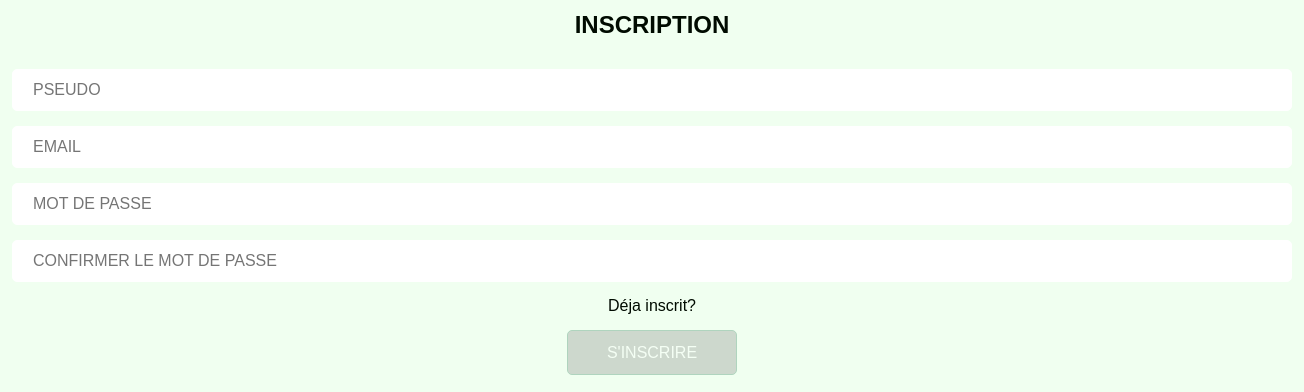
it: Test the Register component › should check that the register button is not disabled
The image size is (1304, 392).
Type "john" into the field with placeholder "PSEUDO" at (652, 90), box [12,69,1292,111]
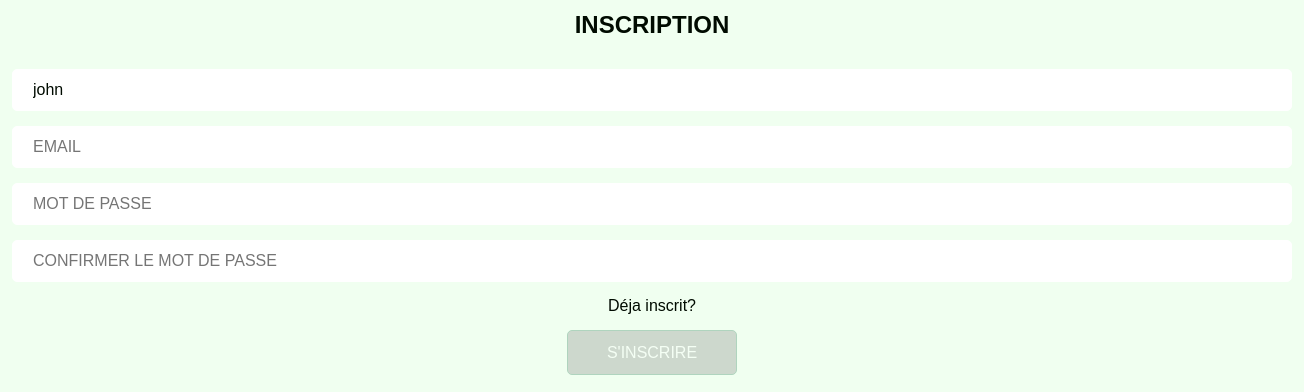
Type "john@gmail.com" into the field with placeholder "EMAIL" at (652, 147), box [12,126,1292,168]
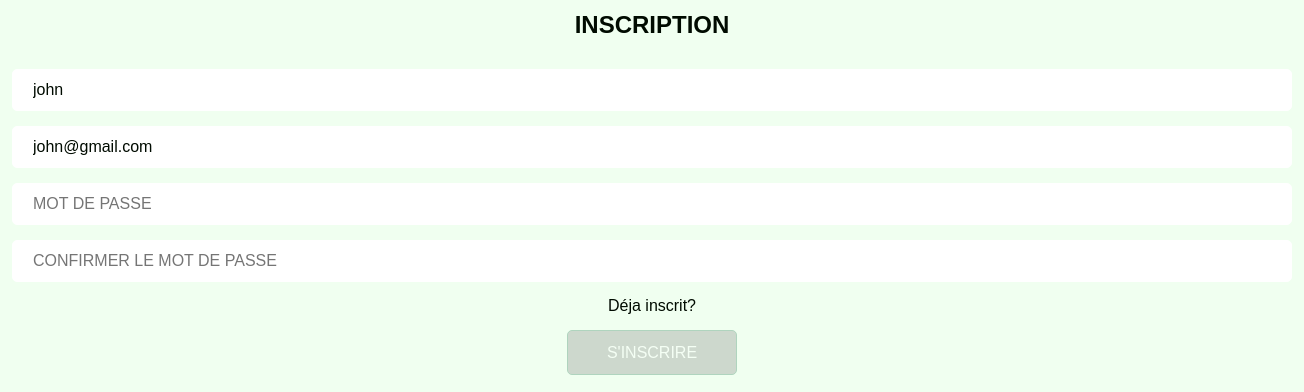
Type "johnPassword" into the password field with placeholder "MOT DE PASSE" at (652, 204), box [12,183,1292,225]
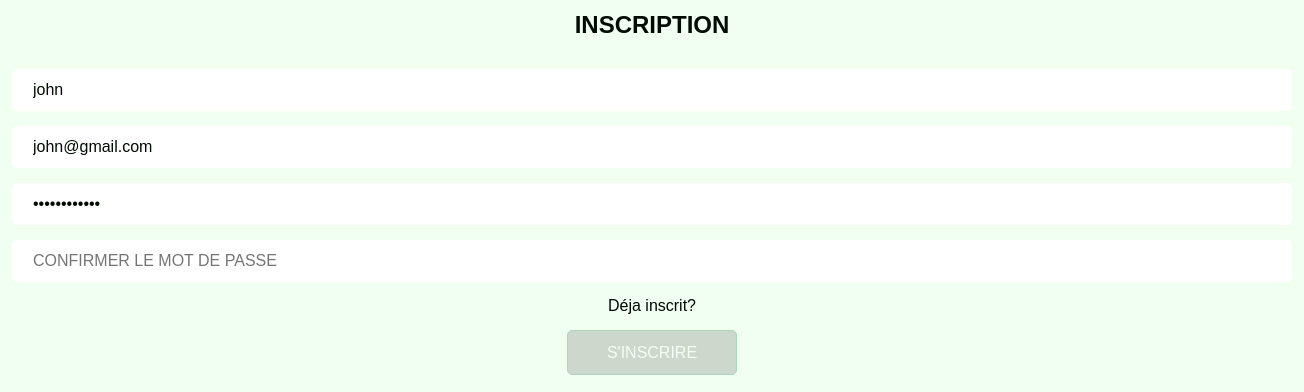
Type "johnPassword" into the password field with placeholder "CONFIRMER LE MOT DE PASSE" at (652, 261), box [12,240,1292,282]
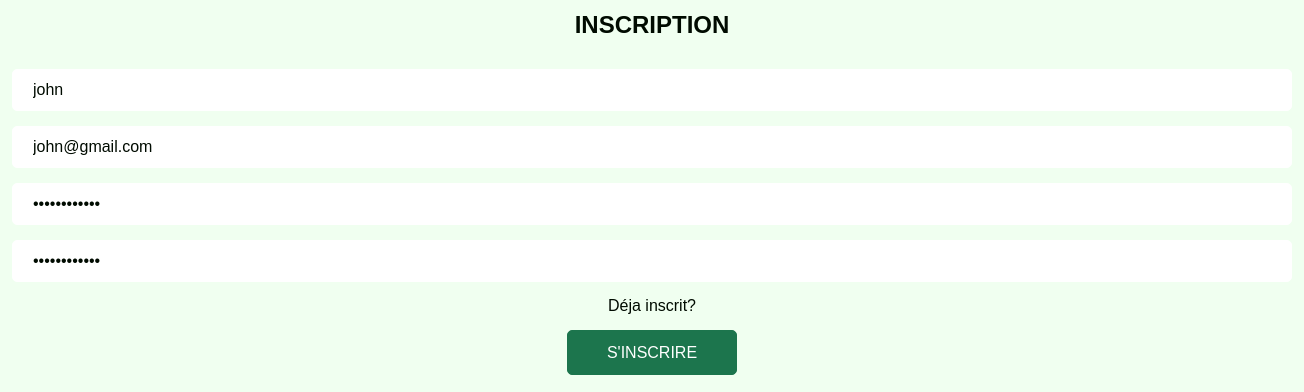
Check: the button is enabled, box [567,330,737,375]
